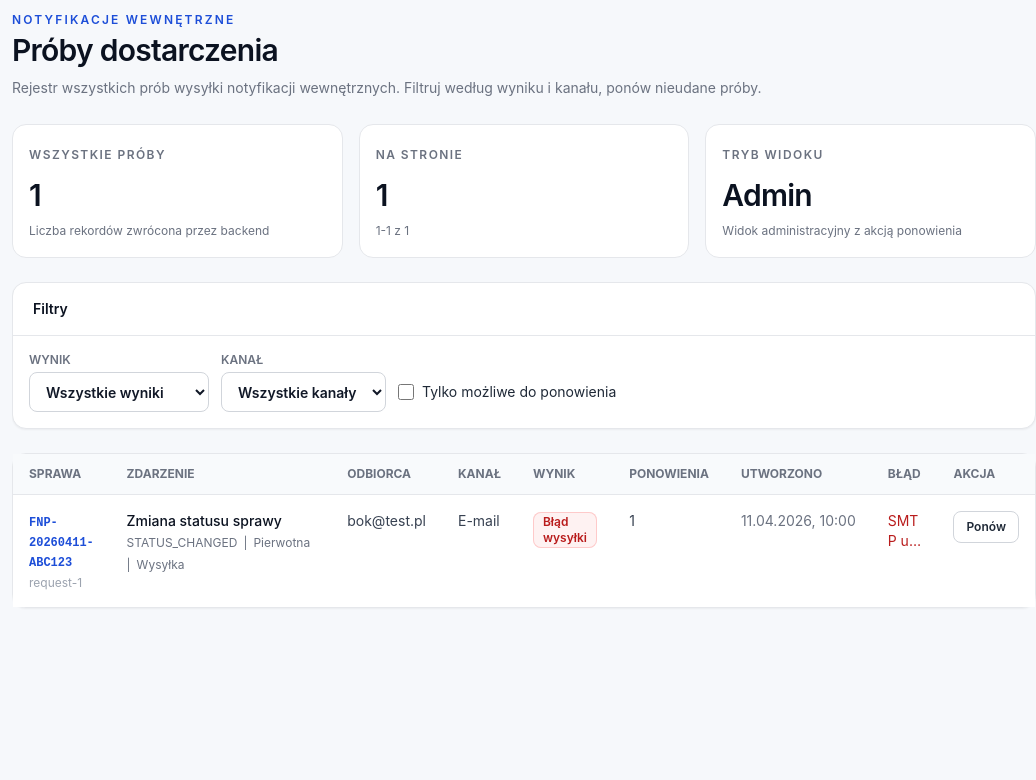
InternalNotificationAttemptsPage › clears all filters via the reset button
The width and height of the screenshot is (1036, 780).
Expected: the link "FNP-20260411-ABC123" is shown, [29,516,94,570]
Select "Błąd wysyłki" in the dropdown named "Filtr wynik". click: (119, 392)
box: [29,372,209,412]
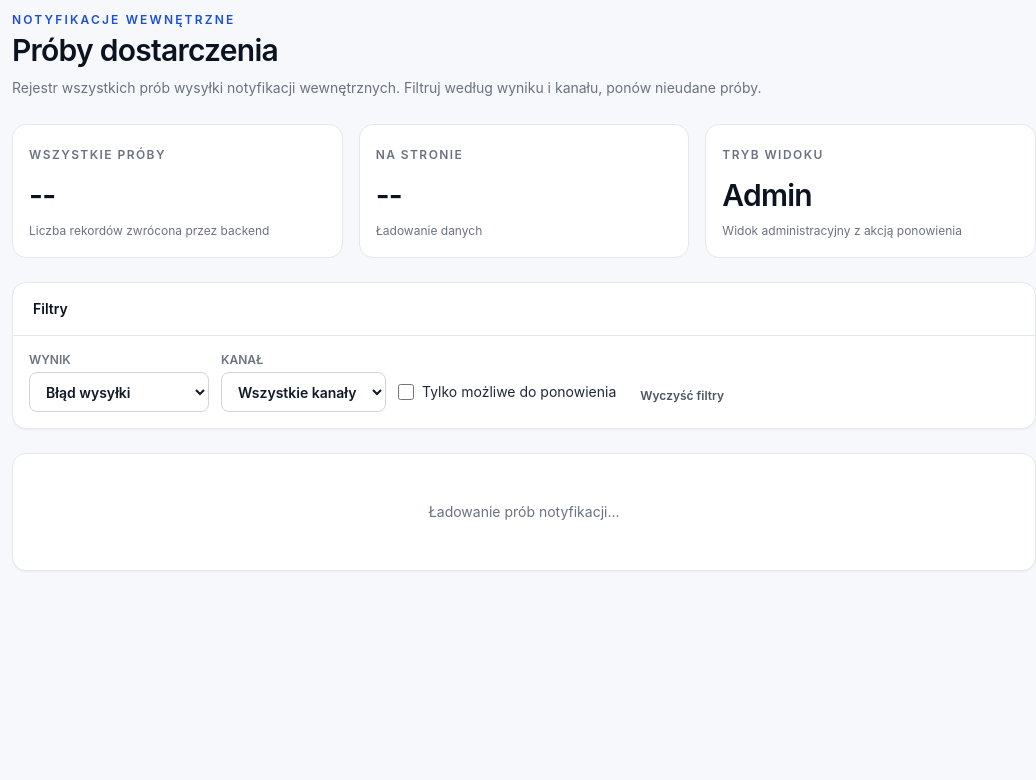
Select "E-mail" in the dropdown named "Filtr kanal". click: (304, 392)
box: [221,372,386,412]
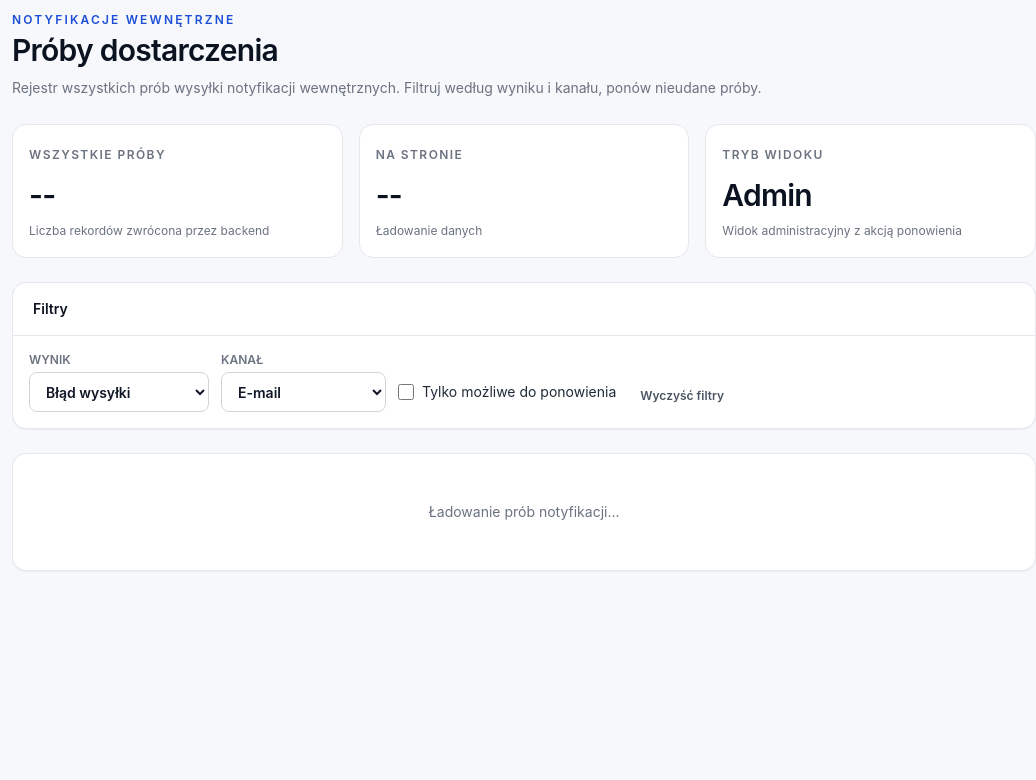
Click the checkbox labelled "Tylko możliwe do ponowienia". click: (406, 392)
box: [398,384,414,400]
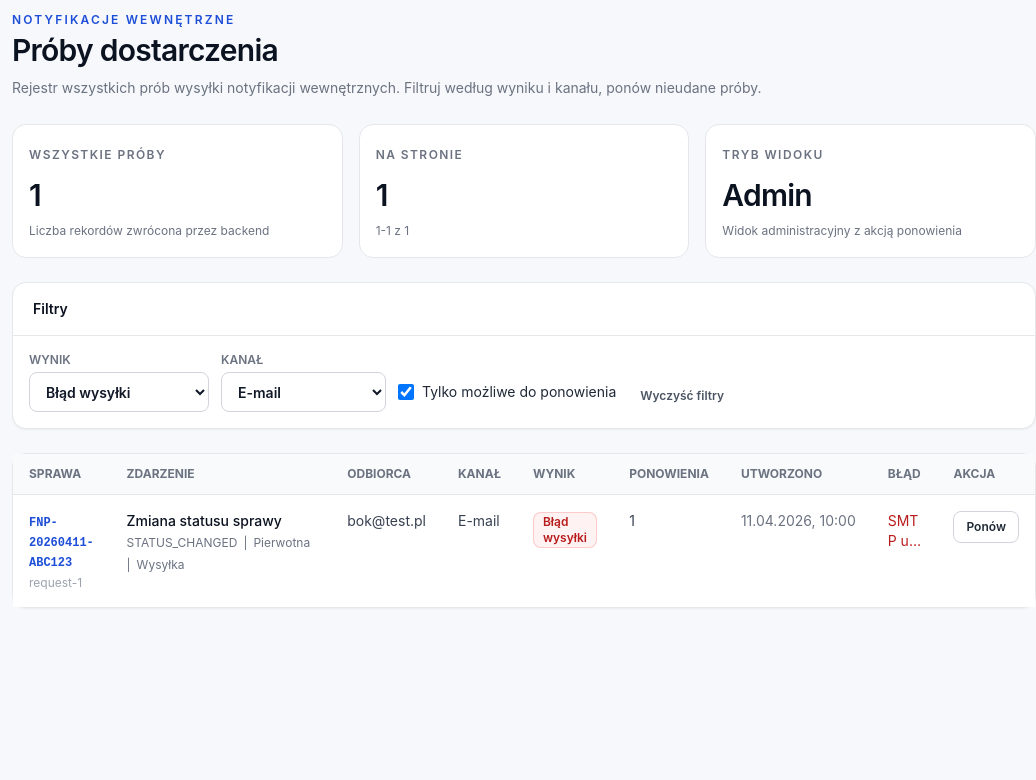
Click the button "Wyczyść filtry". click: (682, 396)
box: [628,380,736,412]
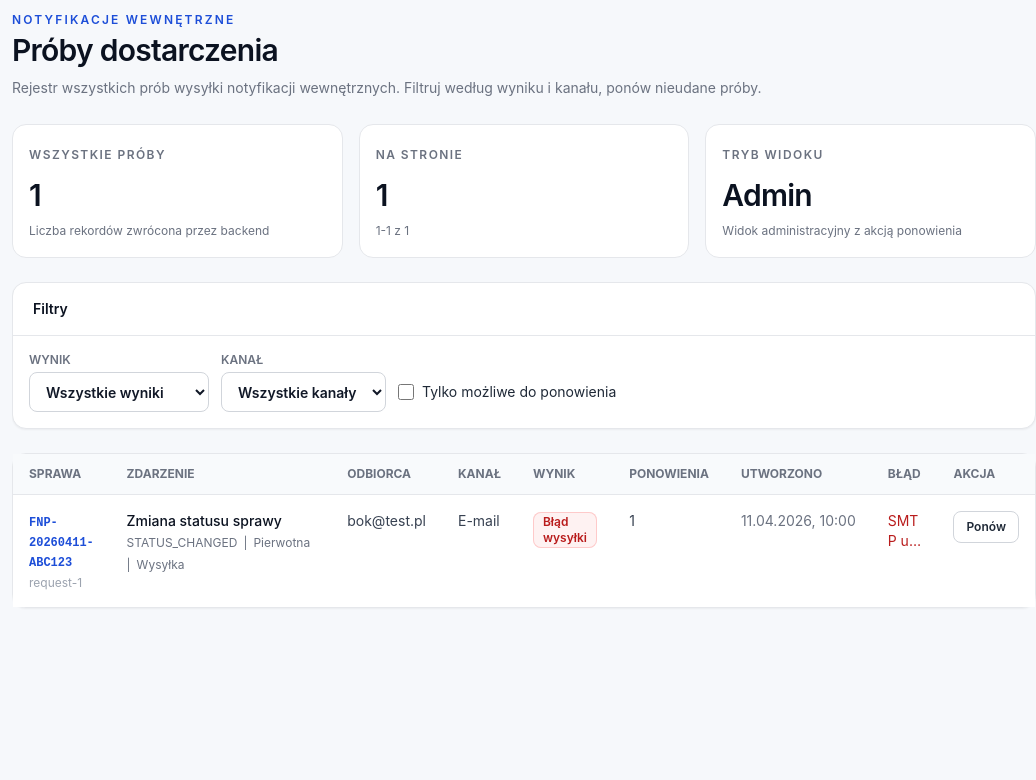
Result: the button "Wyczyść filtry" is gone
